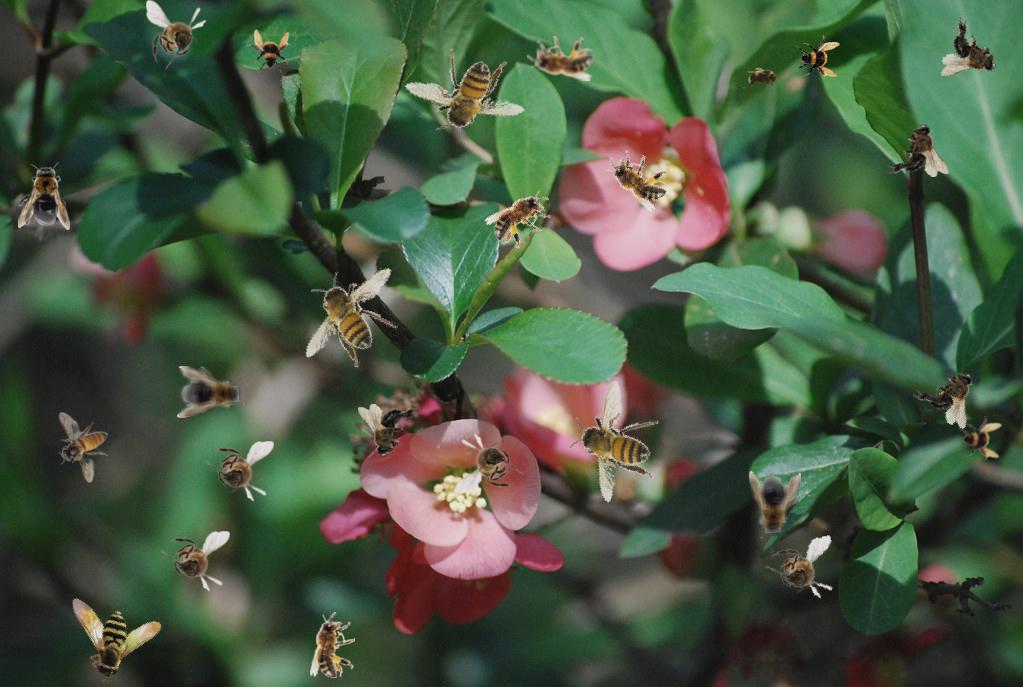Bee: (551, 370, 680, 510), (290, 246, 415, 382), (398, 34, 529, 154), (49, 565, 169, 687), (910, 353, 991, 433), (482, 179, 562, 256), (761, 534, 842, 608), (597, 141, 677, 214), (937, 15, 1008, 91), (454, 433, 524, 494), (160, 531, 230, 592), (204, 441, 274, 502), (146, 0, 207, 70), (58, 412, 108, 483), (177, 366, 245, 418), (18, 162, 70, 230), (749, 471, 801, 539), (358, 404, 420, 457), (887, 124, 949, 177), (310, 612, 355, 678), (527, 36, 593, 81), (247, 29, 291, 73), (796, 35, 840, 79), (958, 416, 1002, 460), (743, 67, 783, 89)
